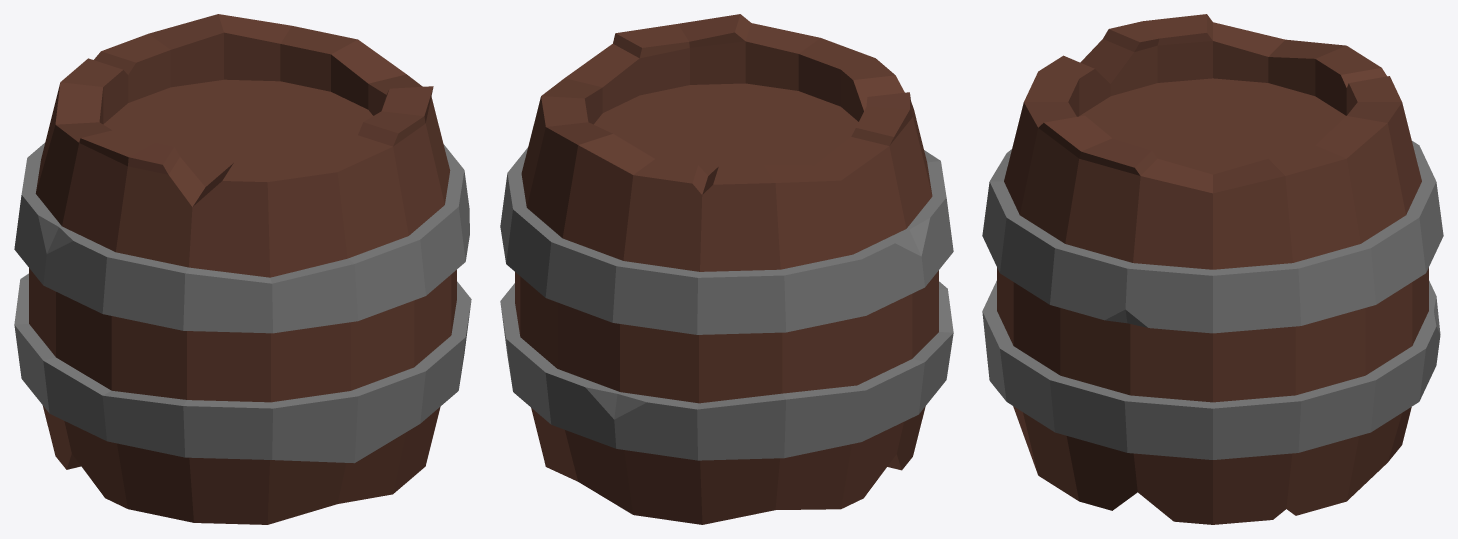
Rendered from Barrel.fbx.
The picture shows the model from 3 angles, left to right: view 1: azimuth 30°, elevation 25°; view 2: azimuth 150°, elevation 25°; view 3: azimuth 270°, elevation 25°; orthographic projection.
Parts seen in each view (by area): view 1: Cylinder; view 2: Cylinder; view 3: Cylinder.
Part boxes in pixels (box(x1,y1,x2,y2)): Cylinder: box(14, 14, 471, 524); Cylinder: box(500, 14, 953, 524); Cylinder: box(982, 14, 1443, 524).
Bounding box in the file's own units: 244 × 208 × 244.
